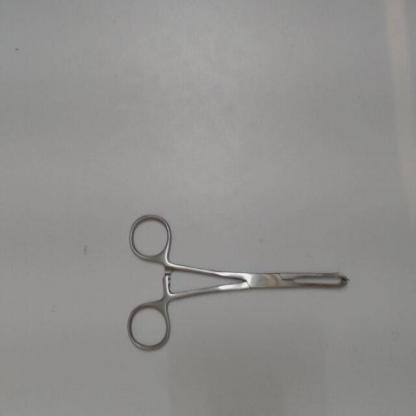Allis Tissue Forceps: (121, 204, 362, 359)
